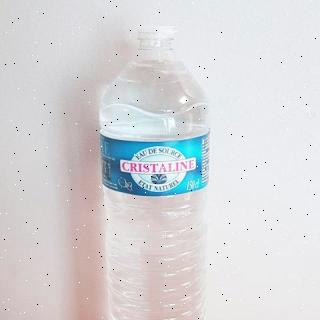Plastic-bottle: (97, 17, 218, 320)
